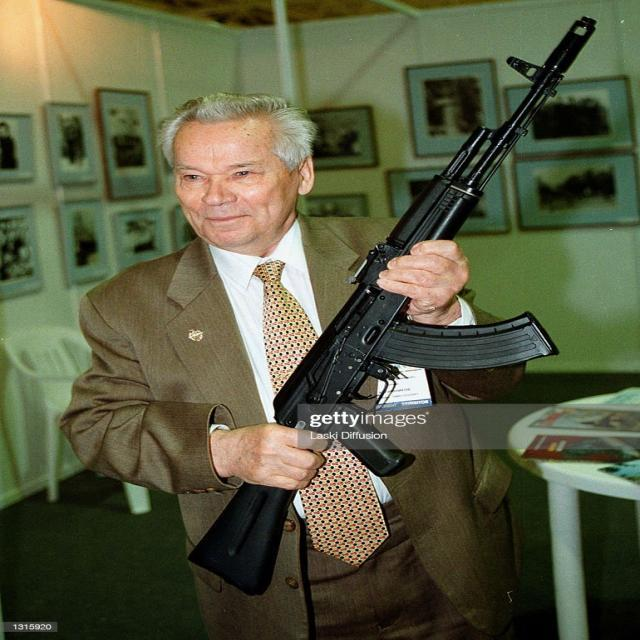weapon: (182, 16, 598, 596)
